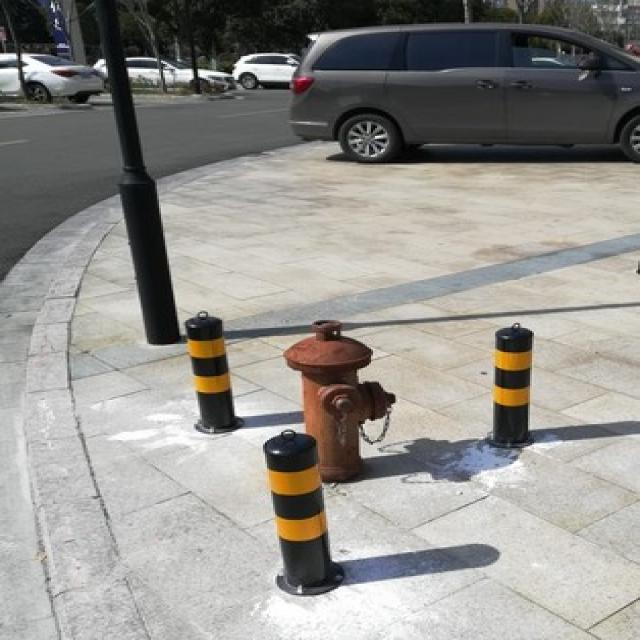car: (285, 17, 638, 162), (0, 49, 104, 102), (94, 54, 230, 90), (230, 50, 300, 88)
fire_hydrant: (282, 318, 398, 480)
pole: (90, 2, 175, 340)
warning_column: (261, 427, 344, 594), (180, 311, 238, 434), (481, 322, 536, 446)
